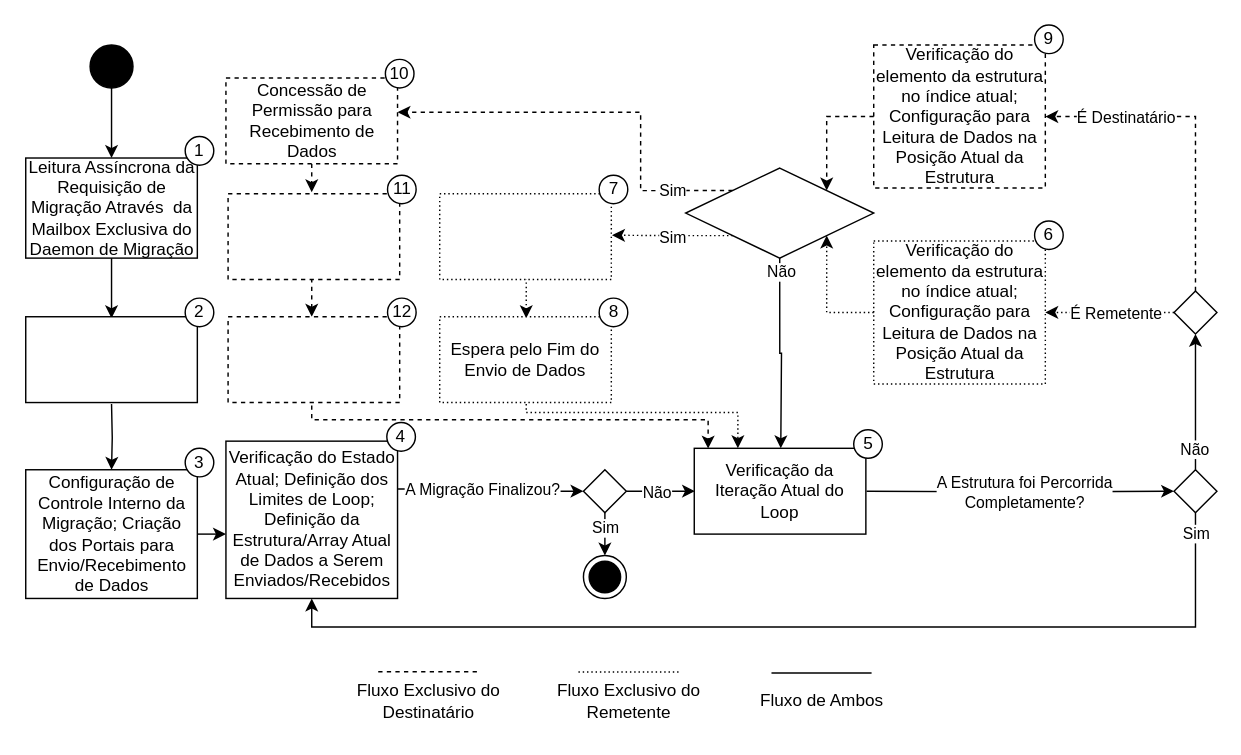
Image size: 1241x755. Some labels were removed from this diagram. Here are the shapes that lost their labels. From the top down, the centre of each, then its label:
point (779, 212): Precisa enviar/receber?
point (313, 236): Leitura Assíncrona de Dados Através do Portal Configurado para Migração
point (524, 236): Envio Assíncrono de Dados Através do Portal Configurado para Migração
point (110, 359): Espera pelo fim da Leitura
point (313, 359): Espera pelo Fim da Leitura de Dados
